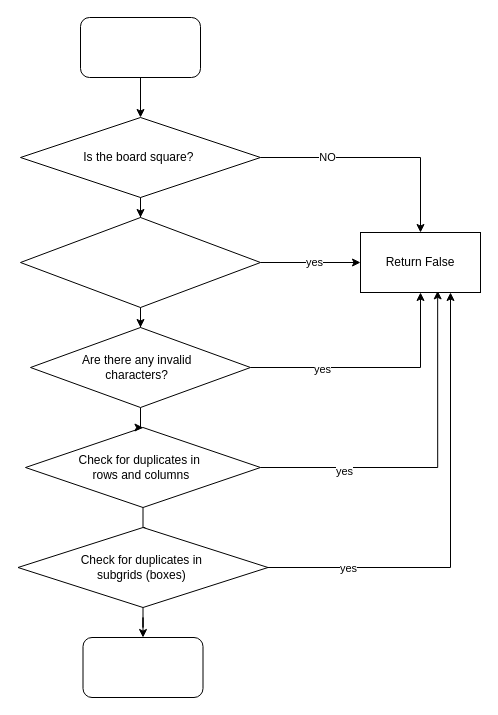
The diagram is 498 pixels wide and 715 high, and some of its shapes have lost their labels. The centre of each missing label's shape, as x and y in pixels:
"Is the board completely empty (all '-')?" goes at [140,262].
"Return True" goes at [142,667].
"Start" goes at [140,47].
